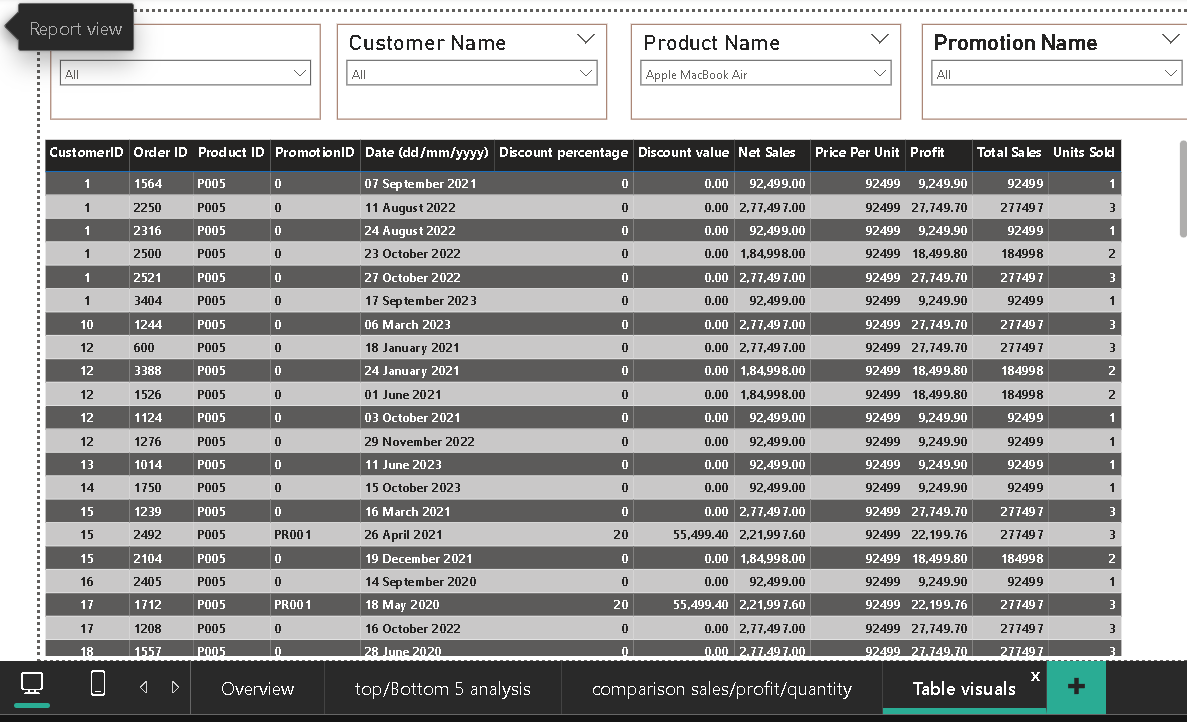

Layout of this report page (visuals, bound fields, positions):
{"tool":"powerbi","page":{"name":"Table visuals","canvas":[1280,720],"ordinal":3},"visuals":[{"type":"tableEx","fields":{"Values":["Fact Table.CustomerID","Fact Table.Order ID","Fact Table.Product ID","Fact Table.PromotionID","Fact Table.Date (dd/mm/yyyy)","Fact Table.Discount percentage","Fact Table.Discount value","Fact Table.Net Sales","Fact Table.Price Per Unit","Fact Table.Profit","Fact Table.Total Sales","Fact Table.Units Sold"]},"box":[0,136.7,1280,583.3],"z":0},{"type":"slicer","fields":{"Values":["Date Table1.Date"]},"box":[10.9,14.1,300,106.2],"z":1000},{"type":"slicer","fields":{"Values":["Dim Customers.Customer Name"]},"box":[329.7,14.1,300,106.2],"z":2000},{"type":"slicer","fields":{"Values":["Dim Product.Product Name"]},"box":[656.2,14.1,300,106.2],"z":3000},{"type":"slicer","fields":{"Values":["Dim Promotion.Promotion Name"]},"box":[979.7,14.1,300,106.2],"z":4000}]}

Visuals, with their boxes on the page's 1280x720 design canvas (x1, y1, x2, y2). These are canvas units, not pixel positions in the 1187x722 screenshot, which may show the page scaled, cropped or inside an application window:
tableEx - Fact Table.CustomerID x Fact Table.Order ID: (0, 137, 1280, 720)
slicer - Date Table1.Date: (11, 14, 311, 120)
slicer - Dim Customers.Customer Name: (330, 14, 630, 120)
slicer - Dim Product.Product Name: (656, 14, 956, 120)
slicer - Dim Promotion.Promotion Name: (980, 14, 1280, 120)
